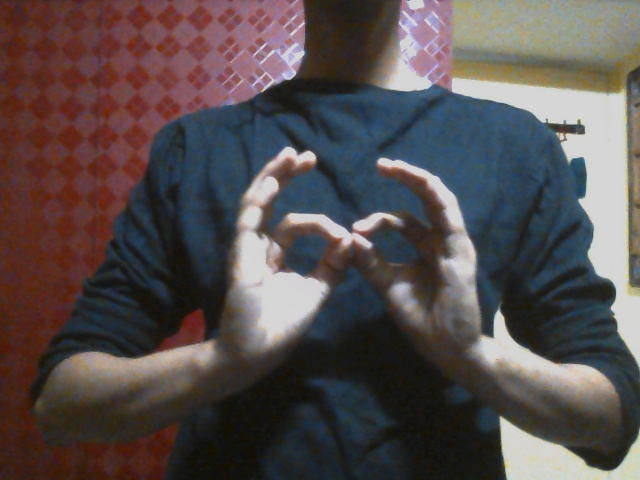B: (213, 144, 488, 396)
